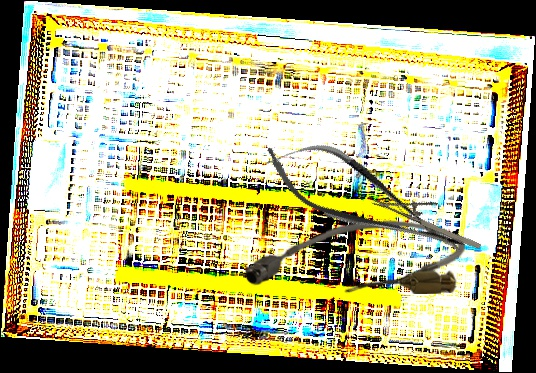Cannula: (243, 219, 466, 297)
Micro Scissor: (252, 119, 477, 282)
Needle Holder: (370, 177, 490, 253)
